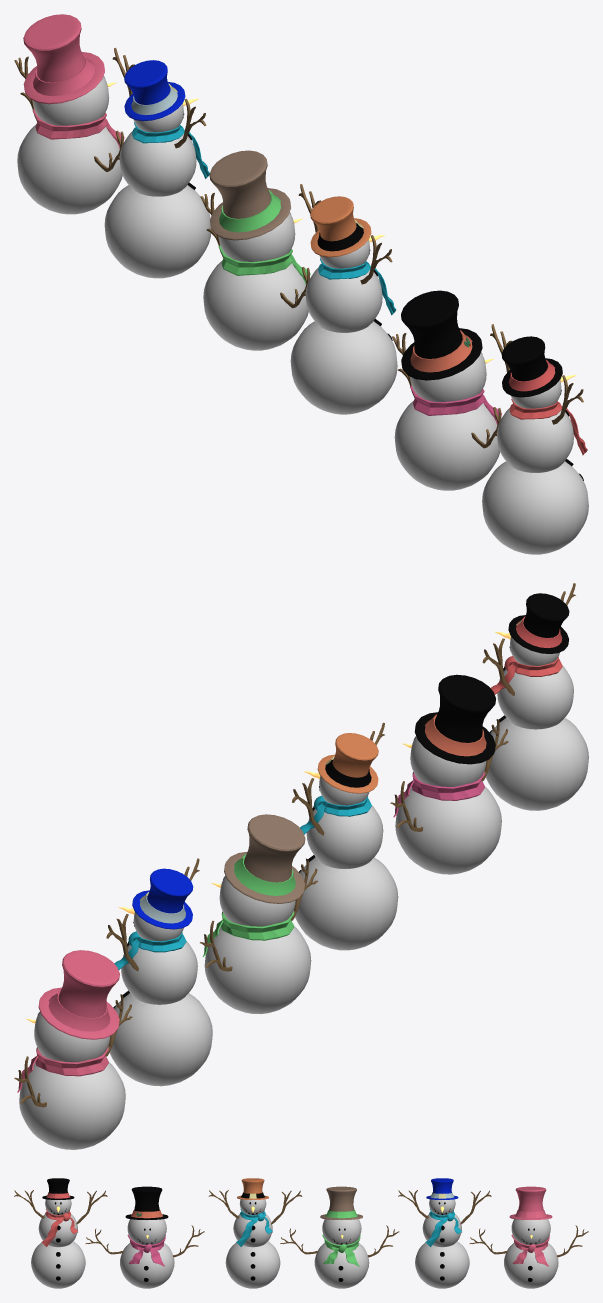
The model's file is BonhommesDeNeige.fbx.
3 views of the same model, one above another, from view 1: azimuth 30°, elevation 25°; view 2: azimuth 150°, elevation 25°; view 3: azimuth 270°, elevation 25° (orthographic). The views are drawn at different scales.
Visible parts, largest first — view 1: Bonhomme1, Bonhomme3, Bonhomme5, Bonhomme6, Bonhomme2, Bonhomme4; view 2: Bonhomme6, Bonhomme2, Bonhomme4, Bonhomme1, Bonhomme3, Bonhomme5; view 3: Bonhomme3, Bonhomme1, Bonhomme5, Bonhomme4, Bonhomme6, Bonhomme2.
Part boxes in pixels (bbox=[...]): Bonhomme1: bbox=[482, 324, 588, 554]; Bonhomme3: bbox=[290, 184, 397, 414]; Bonhomme5: bbox=[104, 48, 211, 278]; Bonhomme6: bbox=[14, 14, 124, 214]; Bonhomme2: bbox=[391, 290, 501, 490]; Bonhomme4: bbox=[200, 150, 310, 350]; Bonhomme6: bbox=[14, 950, 132, 1149]; Bonhomme2: bbox=[390, 674, 508, 874]; Bonhomme4: bbox=[200, 814, 317, 1014]; Bonhomme1: bbox=[482, 583, 588, 810]; Bonhomme3: bbox=[292, 722, 398, 950]; Bonhomme5: bbox=[106, 858, 212, 1086]; Bonhomme3: bbox=[208, 1178, 302, 1288]; Bonhomme1: bbox=[14, 1178, 107, 1288]; Bonhomme5: bbox=[398, 1178, 491, 1288]; Bonhomme4: bbox=[280, 1186, 399, 1288]; Bonhomme6: bbox=[469, 1186, 588, 1288]; Bonhomme2: bbox=[85, 1186, 204, 1288].
Bounding box in the file's own units: 2.82 × 5.96 × 29.22.
